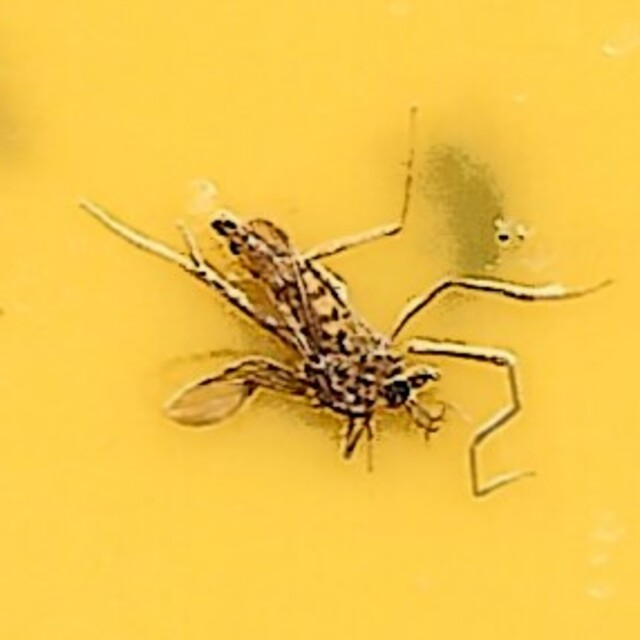Nematocera: (224, 214, 416, 426)
